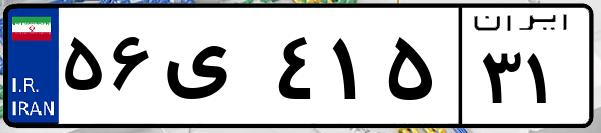1: (330, 28, 385, 110), (525, 38, 570, 115)
3: (475, 38, 525, 113)
4: (270, 28, 330, 110)
5: (385, 28, 445, 110), (57, 26, 110, 100)
6: (110, 28, 158, 98)
ی: (158, 20, 270, 120)
